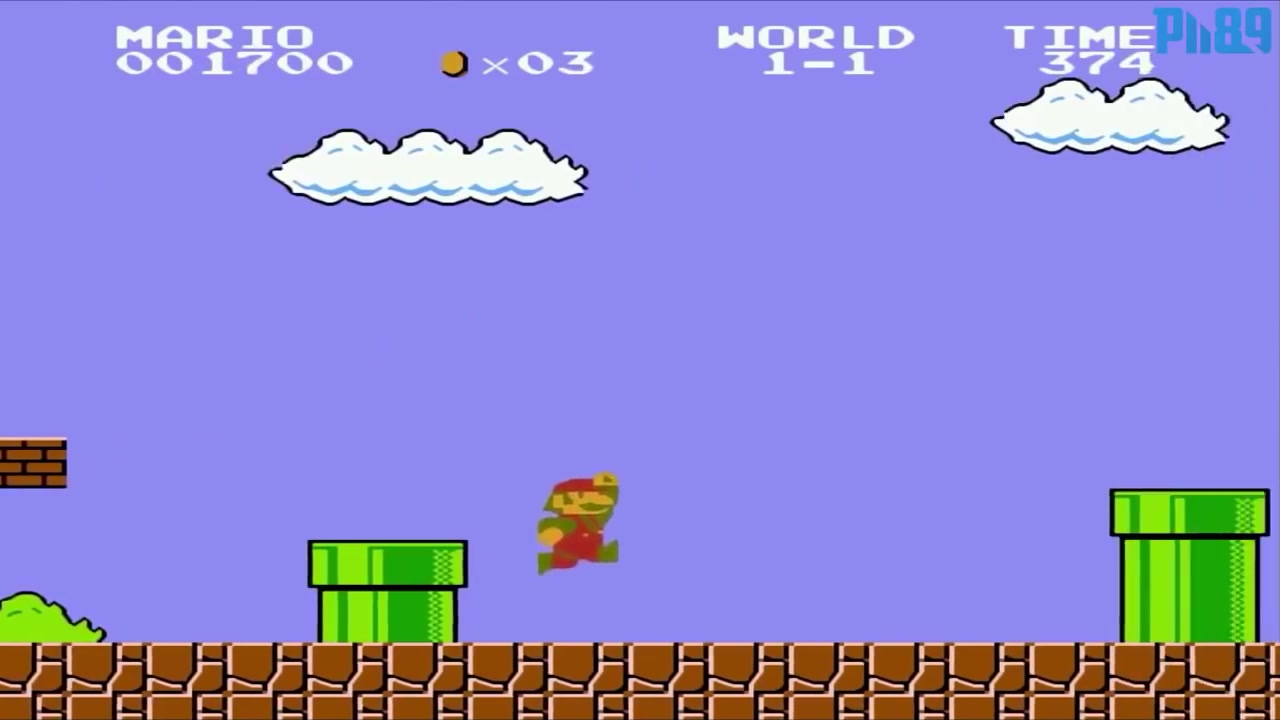mario: (525, 466, 630, 584)
